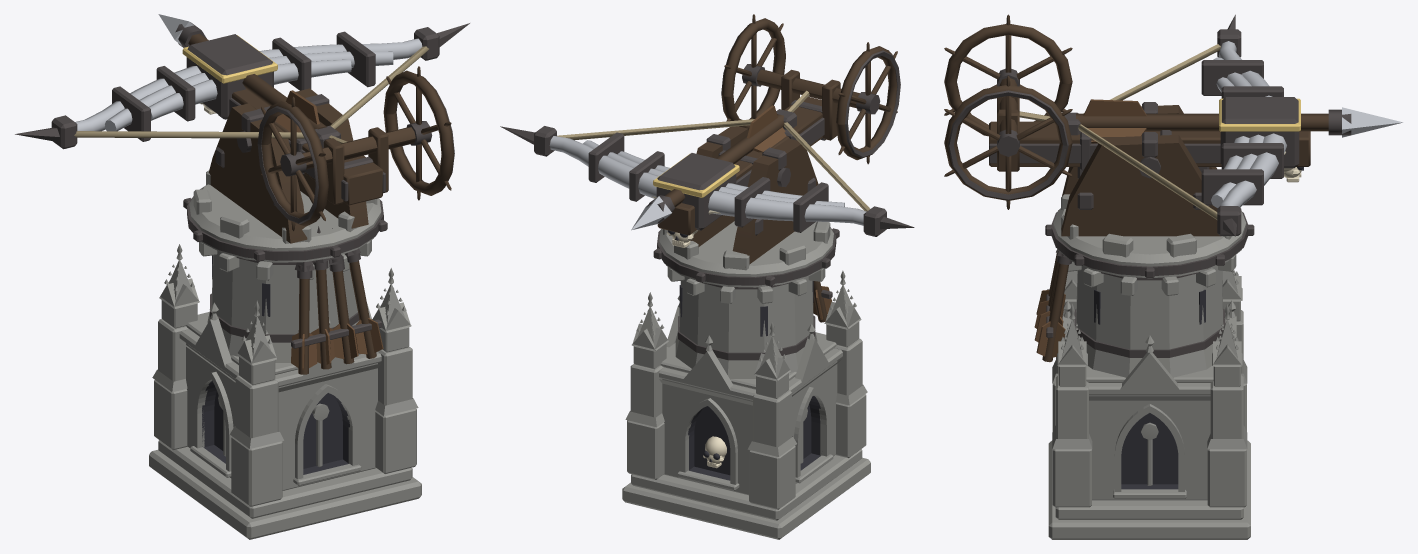
Rendered from tower_ballista_3.glb.
3 renders of one model, left to right at view 1: azimuth 30°, elevation 25°; view 2: azimuth 150°, elevation 25°; view 3: azimuth 270°, elevation 25°, orthographic. The views are drawn at different scales.
Parts seen in each view (by area): view 1: tower, turret; view 2: tower, turret; view 3: tower, turret.
Boxes of the visible parts, box(x1,y1,x2,y2) form: tower: box(149, 170, 421, 539); turret: box(15, 14, 469, 262); tower: box(622, 221, 870, 539); turret: box(500, 14, 914, 287); tower: box(1034, 194, 1250, 539); turret: box(944, 14, 1403, 278).
Bounding box in the file's own units: 4.43 × 4.2 × 3.86.
